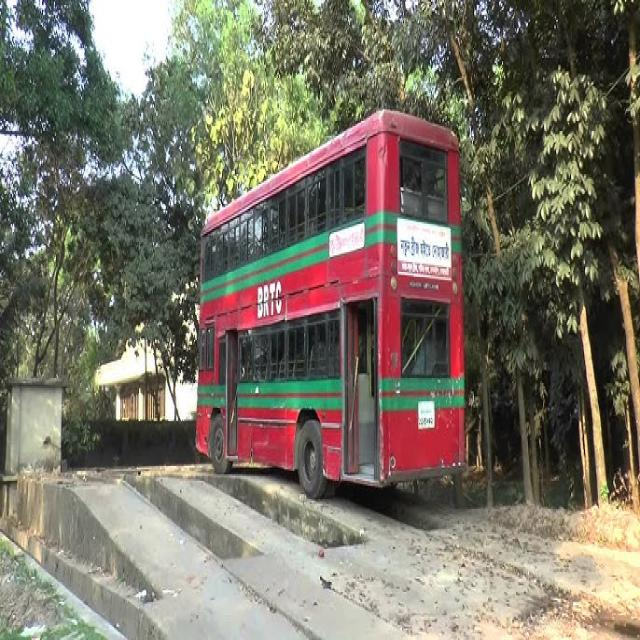Double decker: (197, 107, 467, 499)
